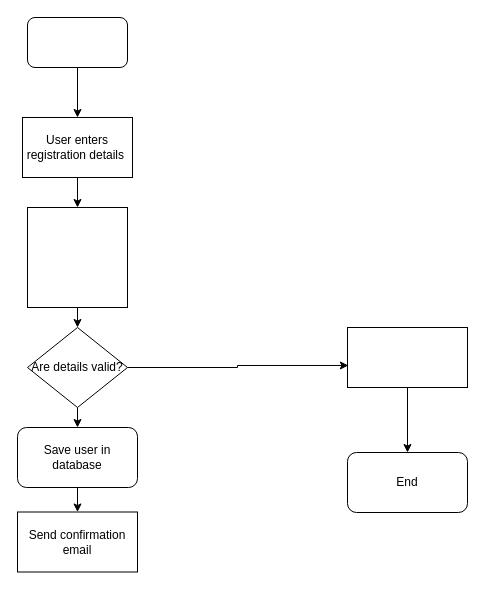
Some shapes in this 485 by 590 pixel diagram are drawn without their labels. The centre of each missing label's shape, as x and y in pixels:
"Show error message" goes at pixel 407 357.
"Start" goes at pixel 77 42.
"System validates input" goes at pixel 77 257.
